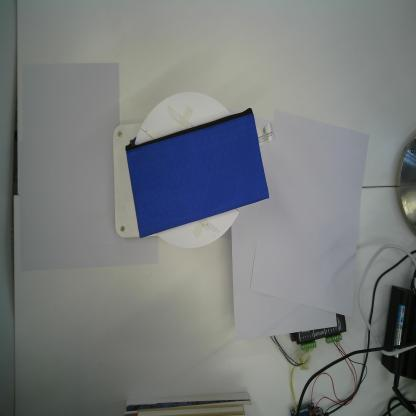Stationery: (124, 107, 276, 242)
